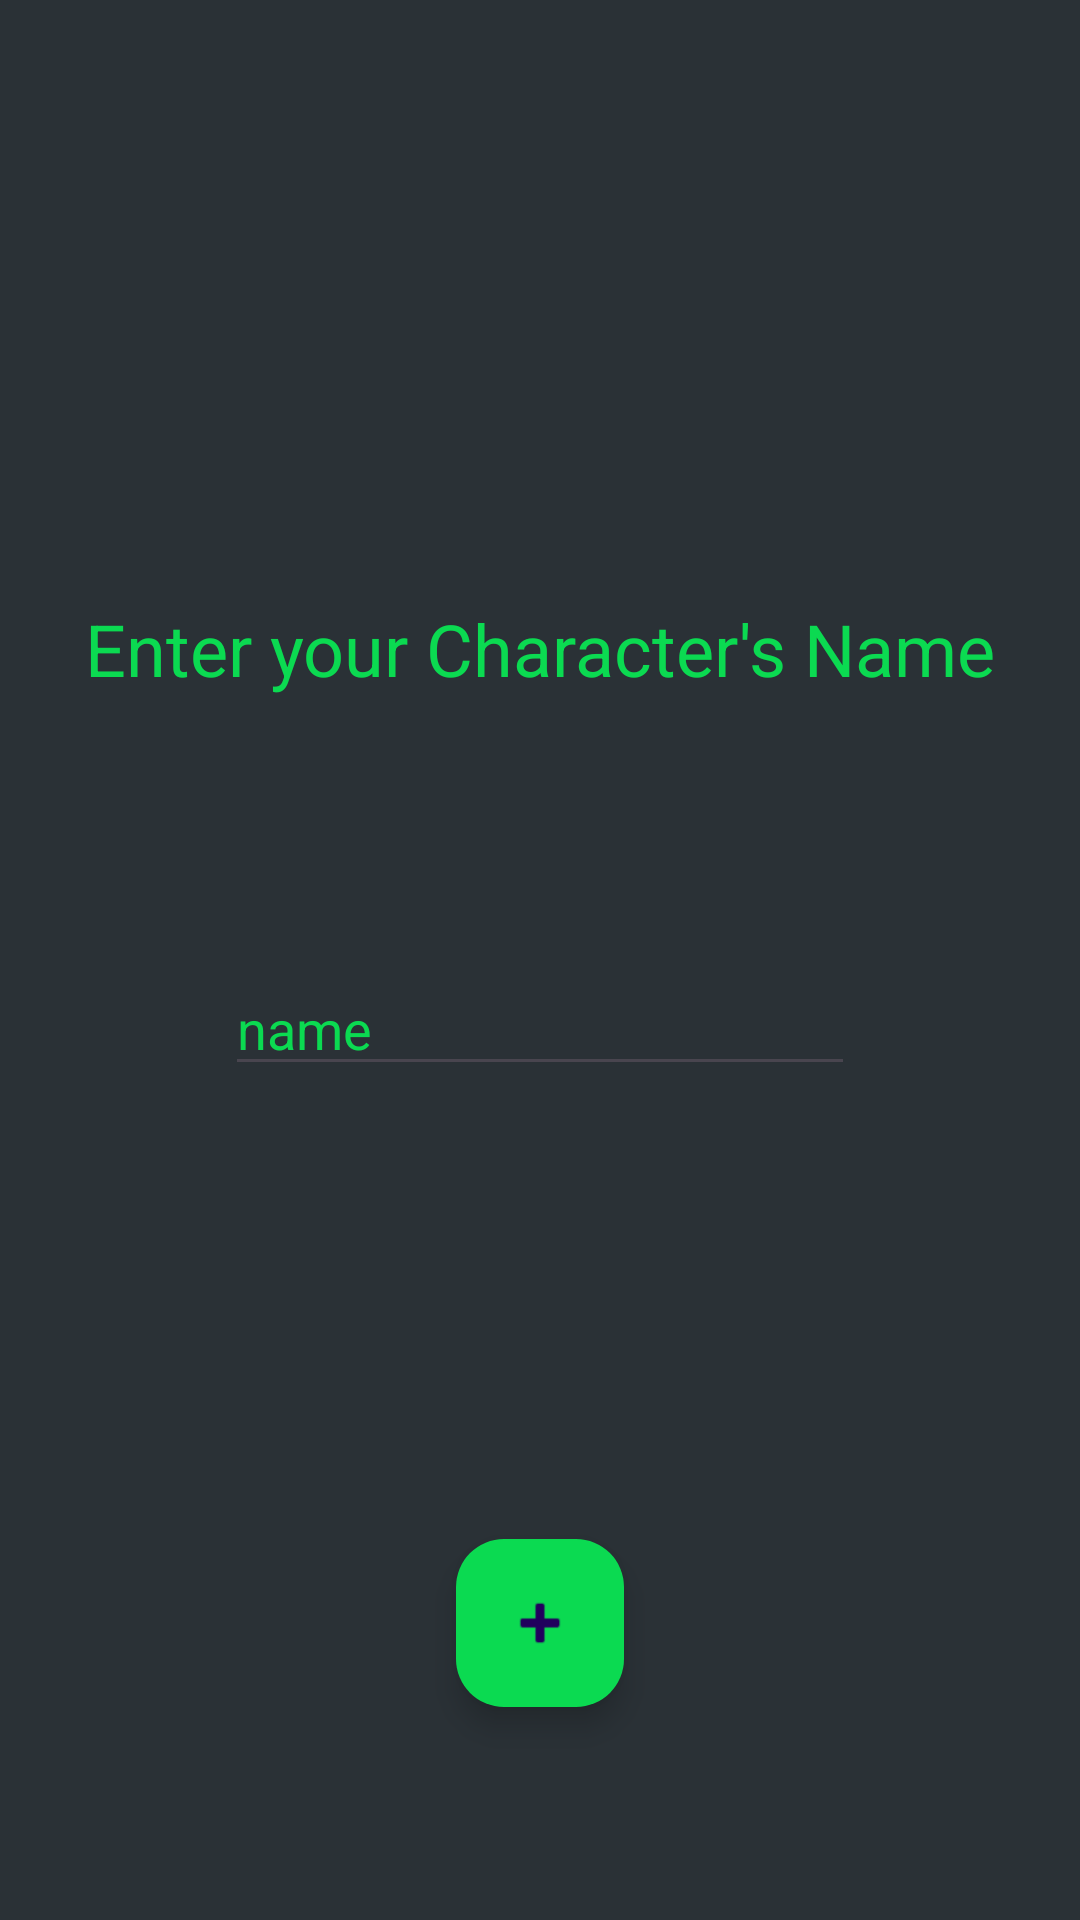

Icon click points for this 1080px x 1920px phone screenshot, format (x,y):
add: (540,1623)
